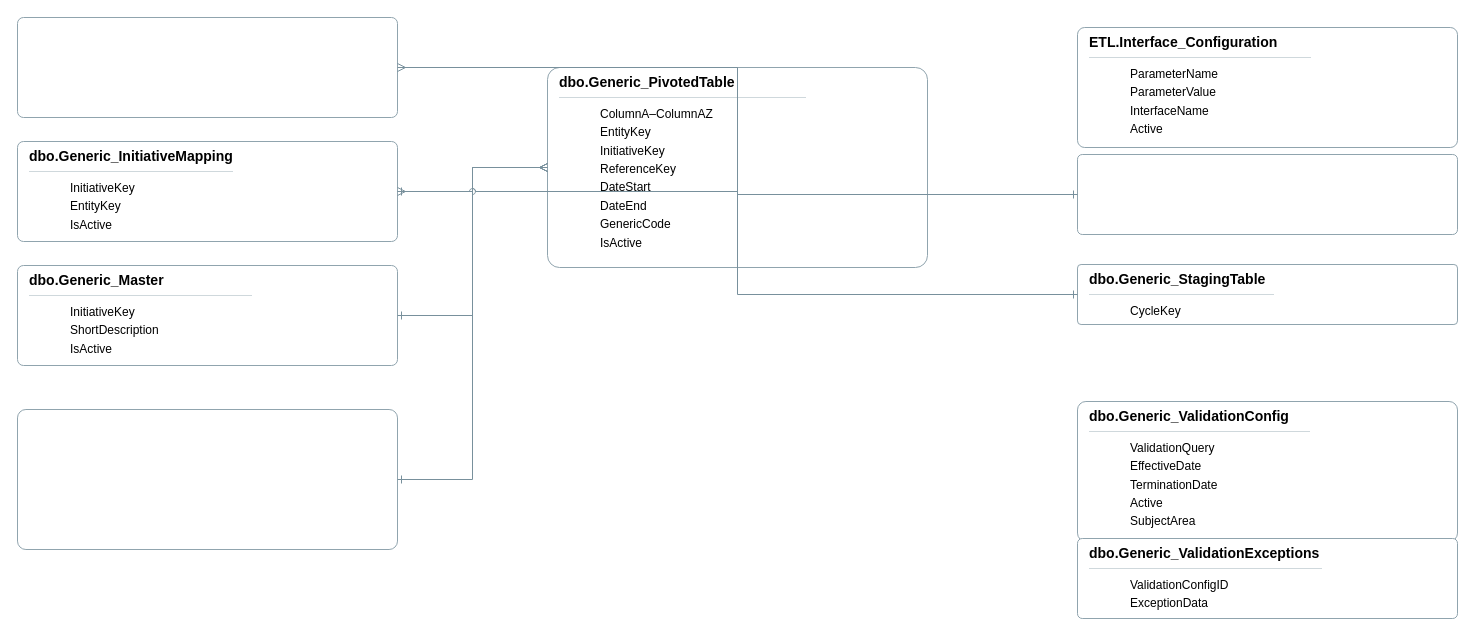
This 1475x636 diagram has some shape labels left out. The box of each missing label's shape, as (x1, y1, x2, y2) in pixels:
dbo.Generic_Calendar CycleCode CycleKey IsActive: (16, 16, 398, 118)
dbo.Generic_Initiative InitiativeKey IsActive: (1076, 154, 1458, 234)
dbo.Generic_ReferenceTable ReferenceKey IsActive ReferenceCode DateStart DateEnd: (16, 408, 398, 550)
